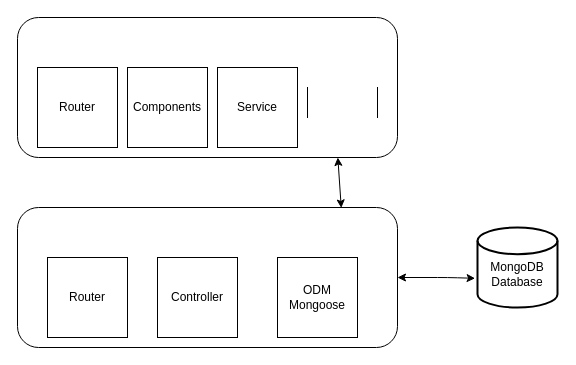
Image size: 576x365. Some labels were removed from this diagram. Each missing label, with the box of its shape:
Node.js Express.js: (16, 206, 398, 348)
React.js Axios HTTP: (16, 16, 398, 158)
